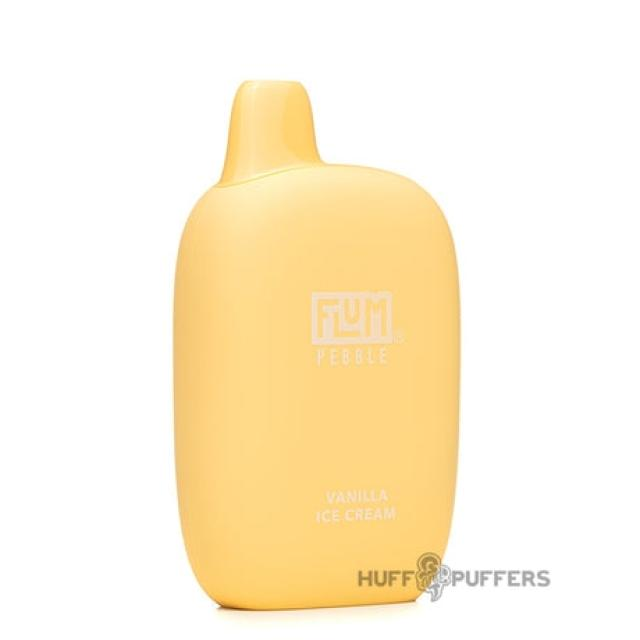Hazard: (170, 78, 462, 611)
